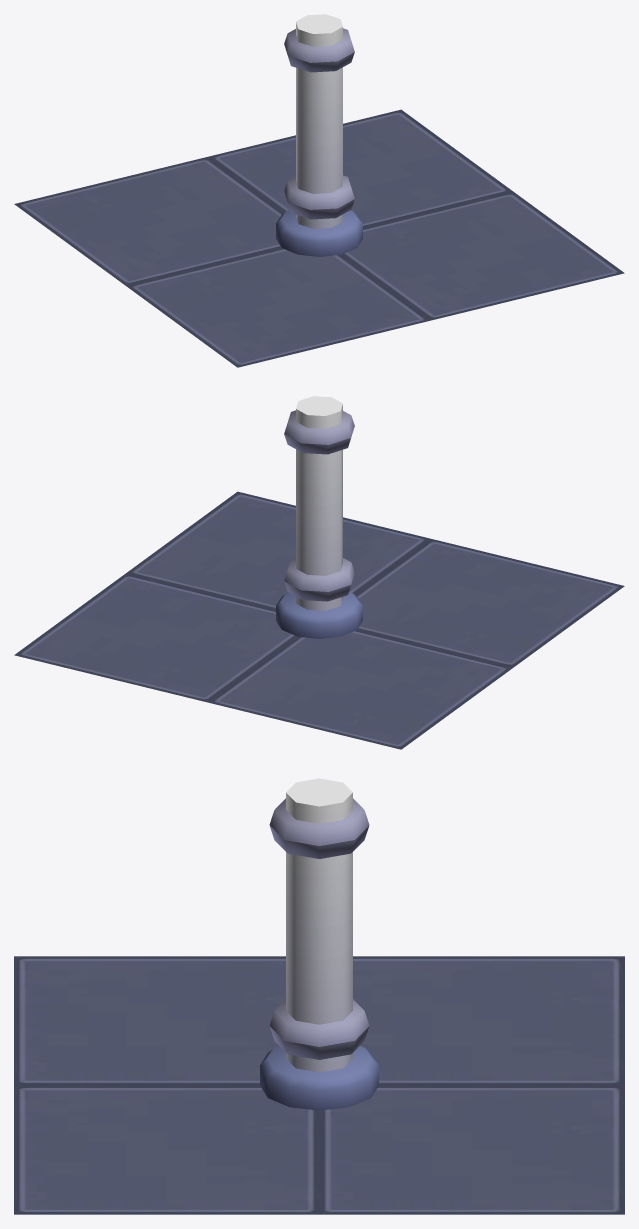
File: template-floor-big.glb
3 renders of one model, top to bottom at view 1: azimuth 30°, elevation 25°; view 2: azimuth 150°, elevation 25°; view 3: azimuth 270°, elevation 25°, orthographic. The views are drawn at different scales.
Visible parts, largest first — view 1: template-floor-big; view 2: template-floor-big; view 3: template-floor-big.
Part boxes in pixels (x1,y1,x2,y2): template-floor-big: (14,14,624,367); template-floor-big: (14,396,624,749); template-floor-big: (14,778,624,1214).
Size of the model in its own units: 8 by 4.23 by 8.
1 material, 1 textured.
